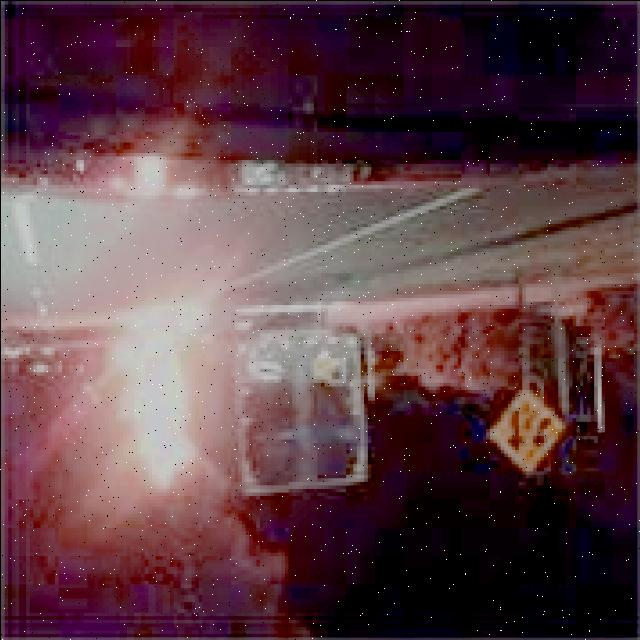api: (91, 305, 267, 496)
